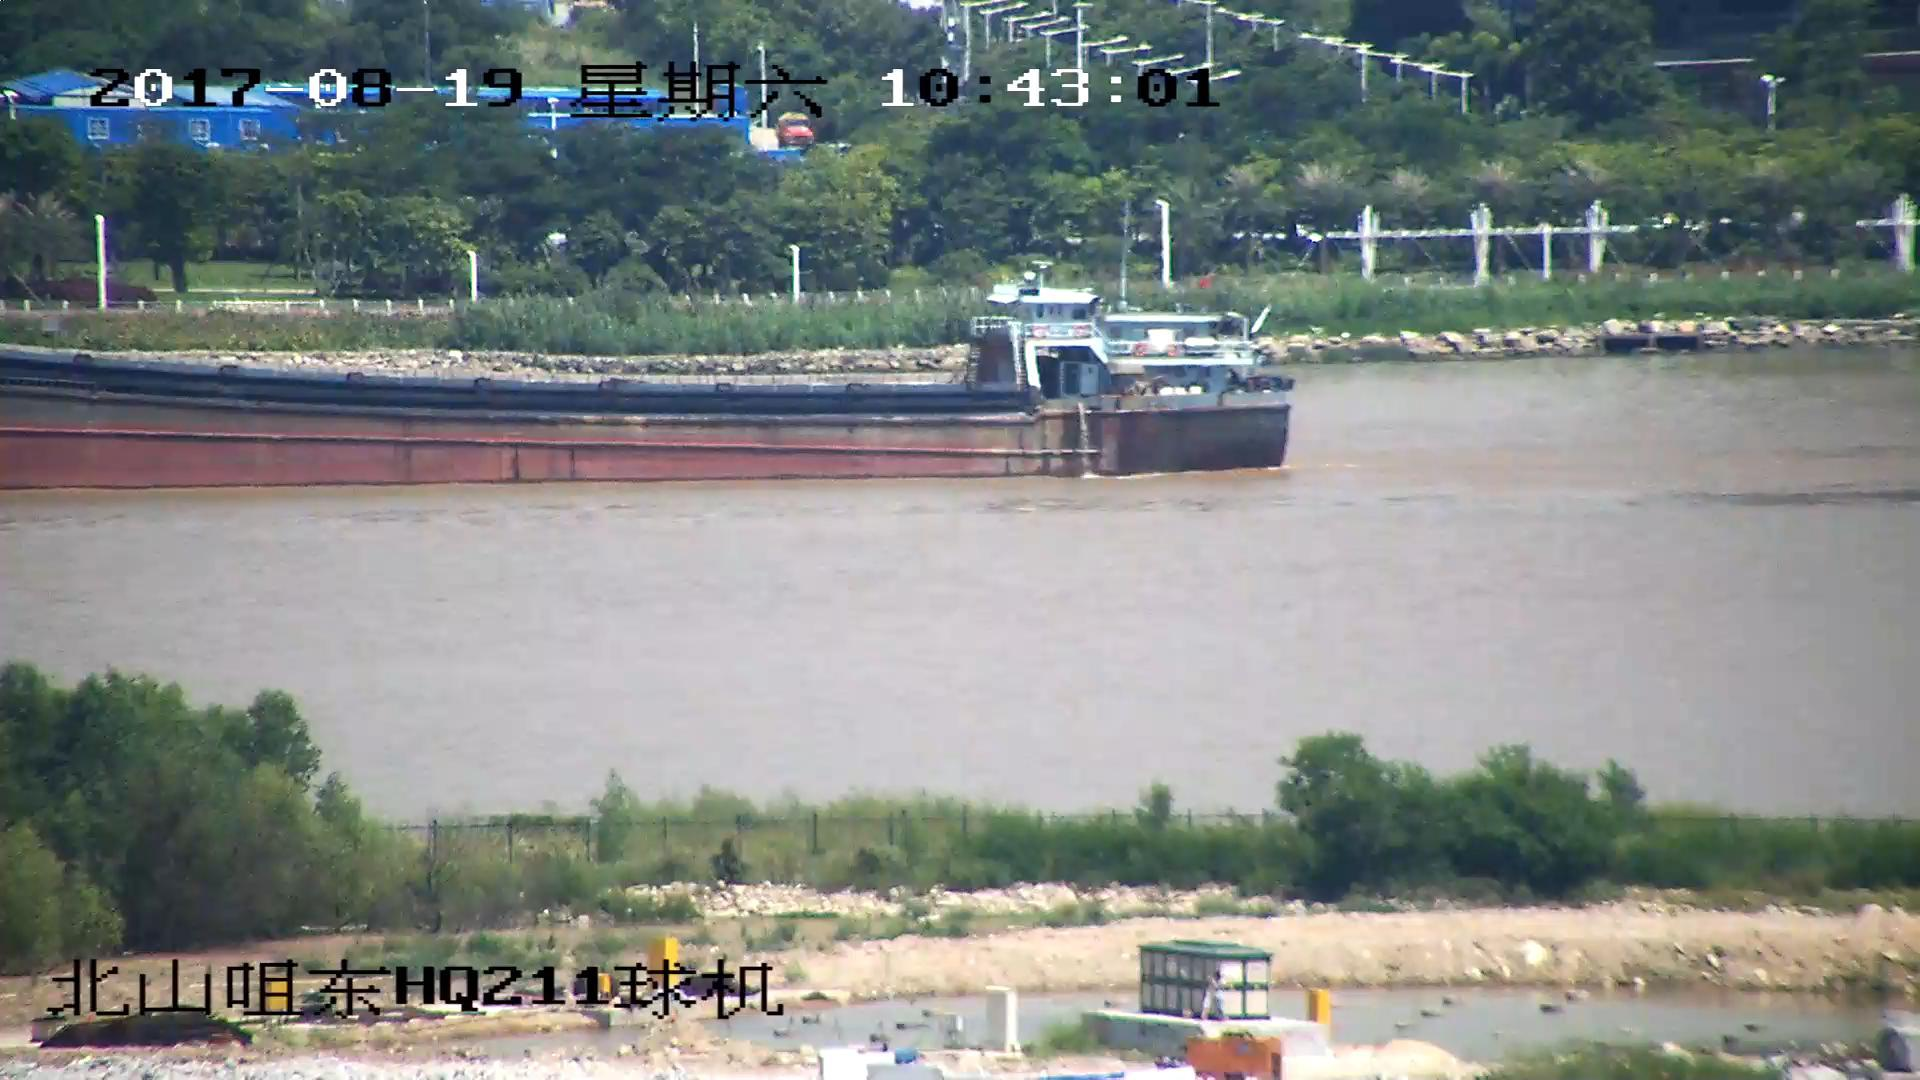Ship: (3, 257, 1298, 491)
